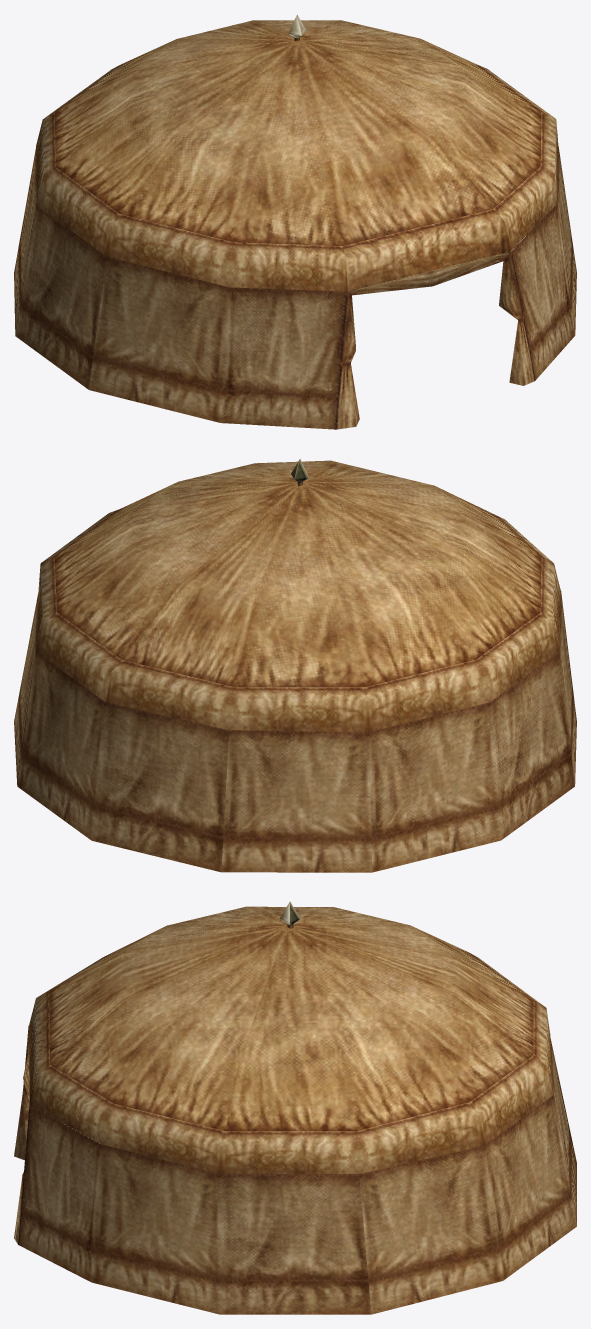
File: general_obj_tent01.glb
3 renders of one model, top to bottom at view 1: azimuth 30°, elevation 25°; view 2: azimuth 150°, elevation 25°; view 3: azimuth 270°, elevation 25°, orthographic.
Parts seen in each view (by area): view 1: Mesh02; view 2: Mesh02; view 3: Mesh02.
Boxes of the visible parts, x1,y1,x2,y2 form: Mesh02: (14,14,576,429); Mesh02: (14,458,576,872); Mesh02: (14,901,576,1314).
Size of the model in its own units: 11.36 by 6.53 by 11.34.
Materials: 1 (1 with a texture image).
